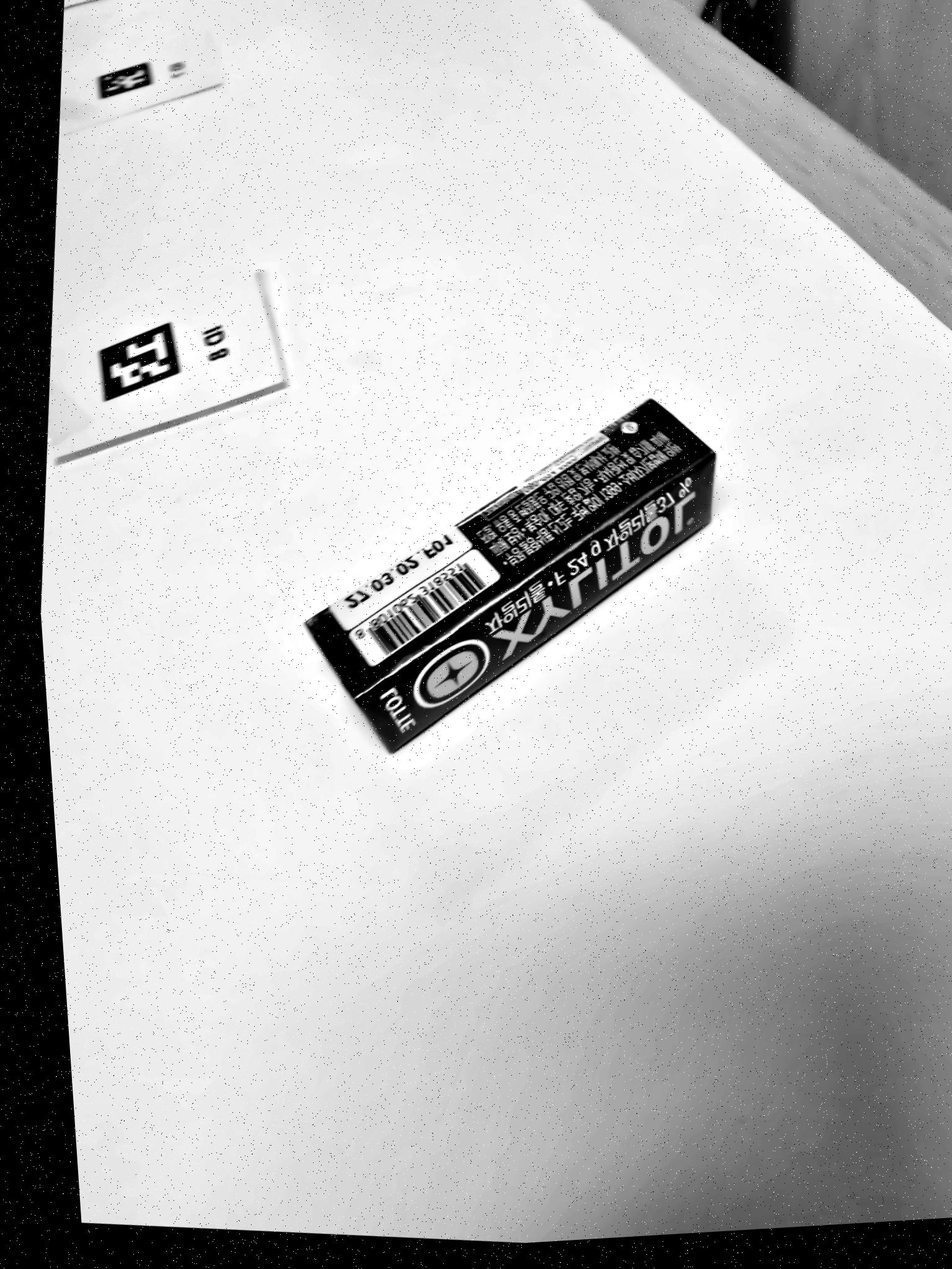gum_green: (306, 400, 715, 751)
